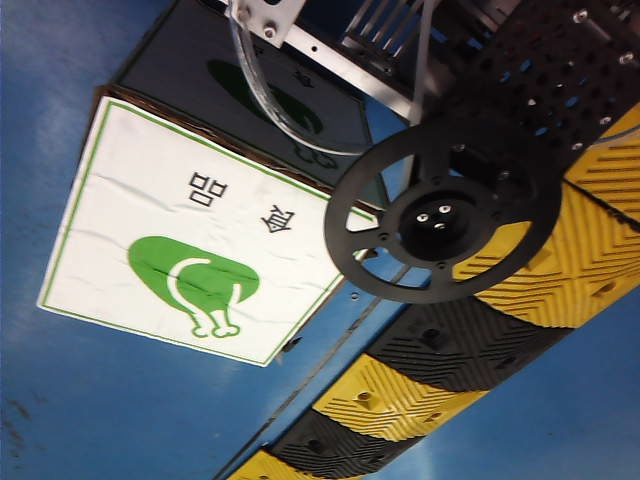Cube_food: (117, 159, 310, 348)
